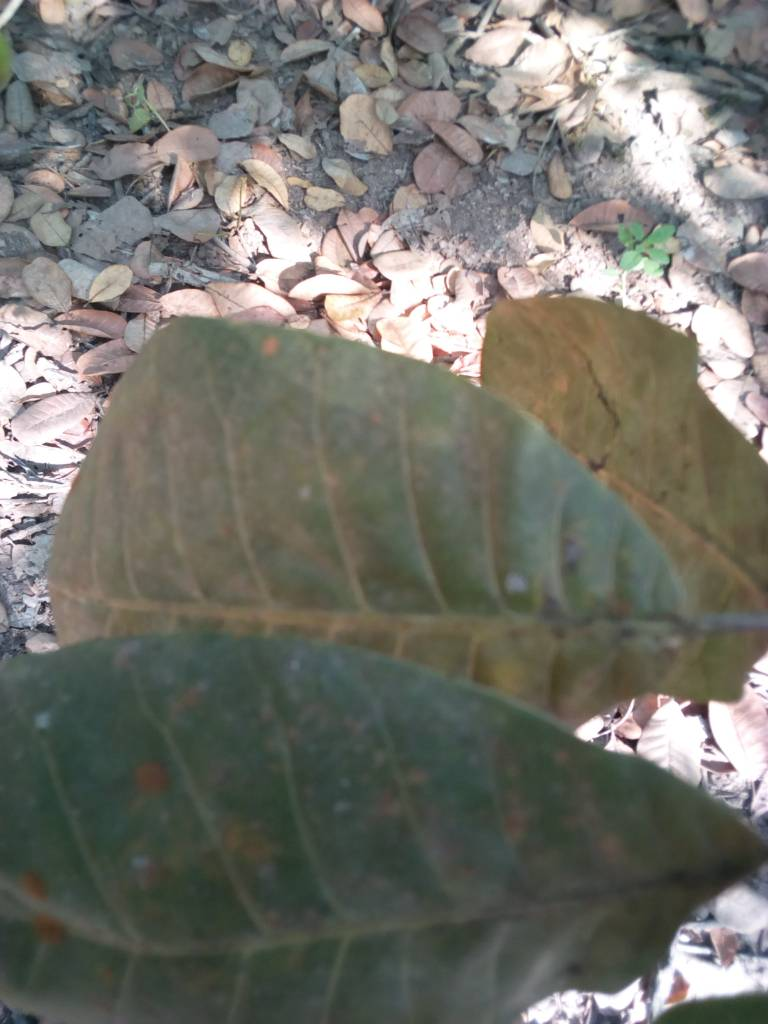Rouille: (1, 631, 736, 1020)
